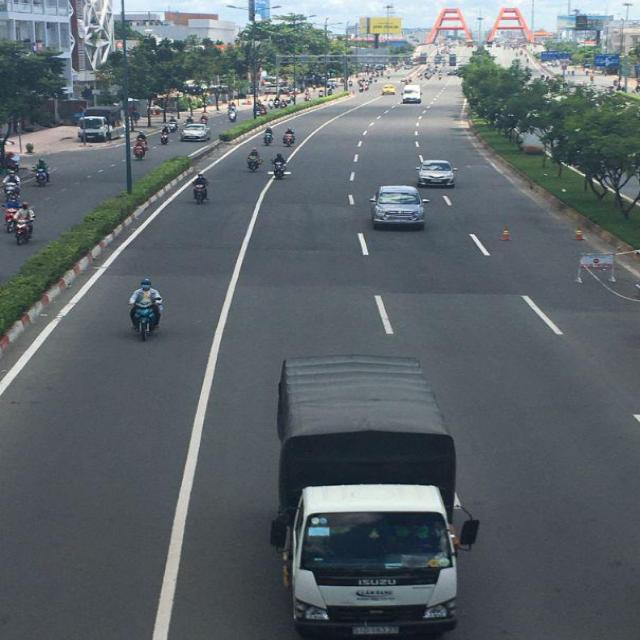car: (372, 186, 426, 233), (418, 159, 454, 189), (182, 124, 210, 142), (402, 85, 421, 104)
motorcycle: (132, 298, 162, 340), (14, 213, 35, 244), (192, 176, 210, 206), (246, 151, 261, 171), (36, 168, 50, 186), (285, 130, 296, 146)
truck: (271, 355, 481, 640), (78, 105, 130, 143)
